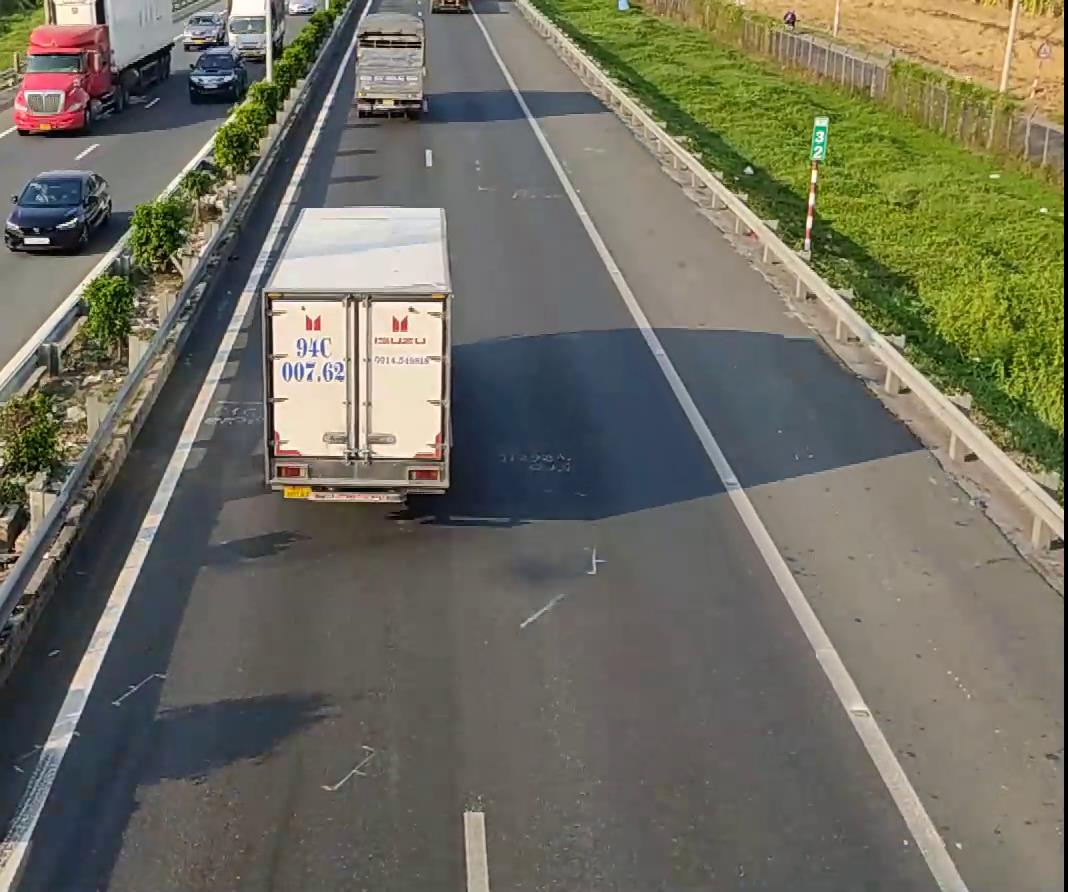car: (1, 168, 110, 251)
container: (11, 0, 180, 131)
truck: (257, 202, 449, 504), (351, 6, 428, 118)
